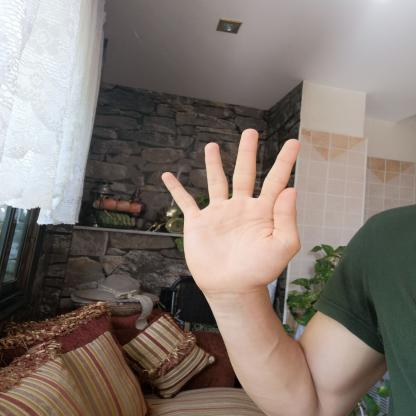SHEEN: (150, 123, 310, 302)
